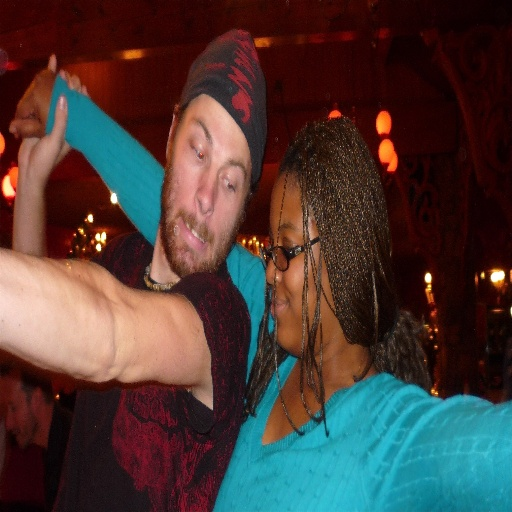hand: (16, 50, 90, 184), (9, 67, 56, 137)
